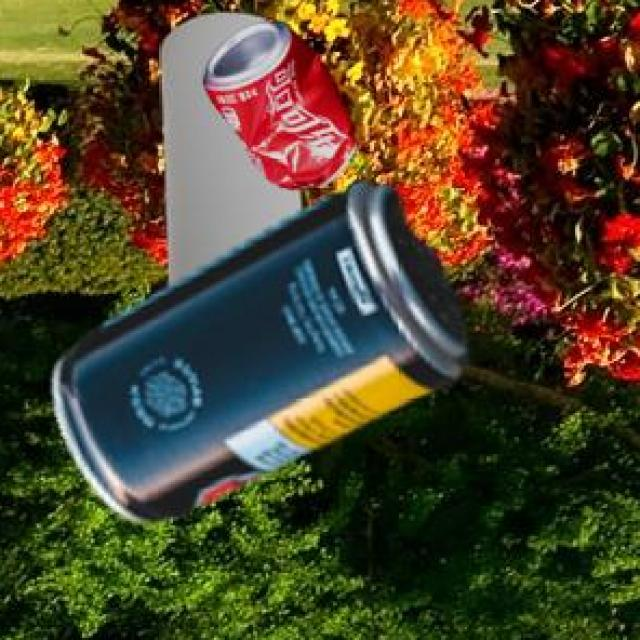logam: (57, 187, 470, 524), (163, 16, 304, 289), (206, 25, 360, 194)
